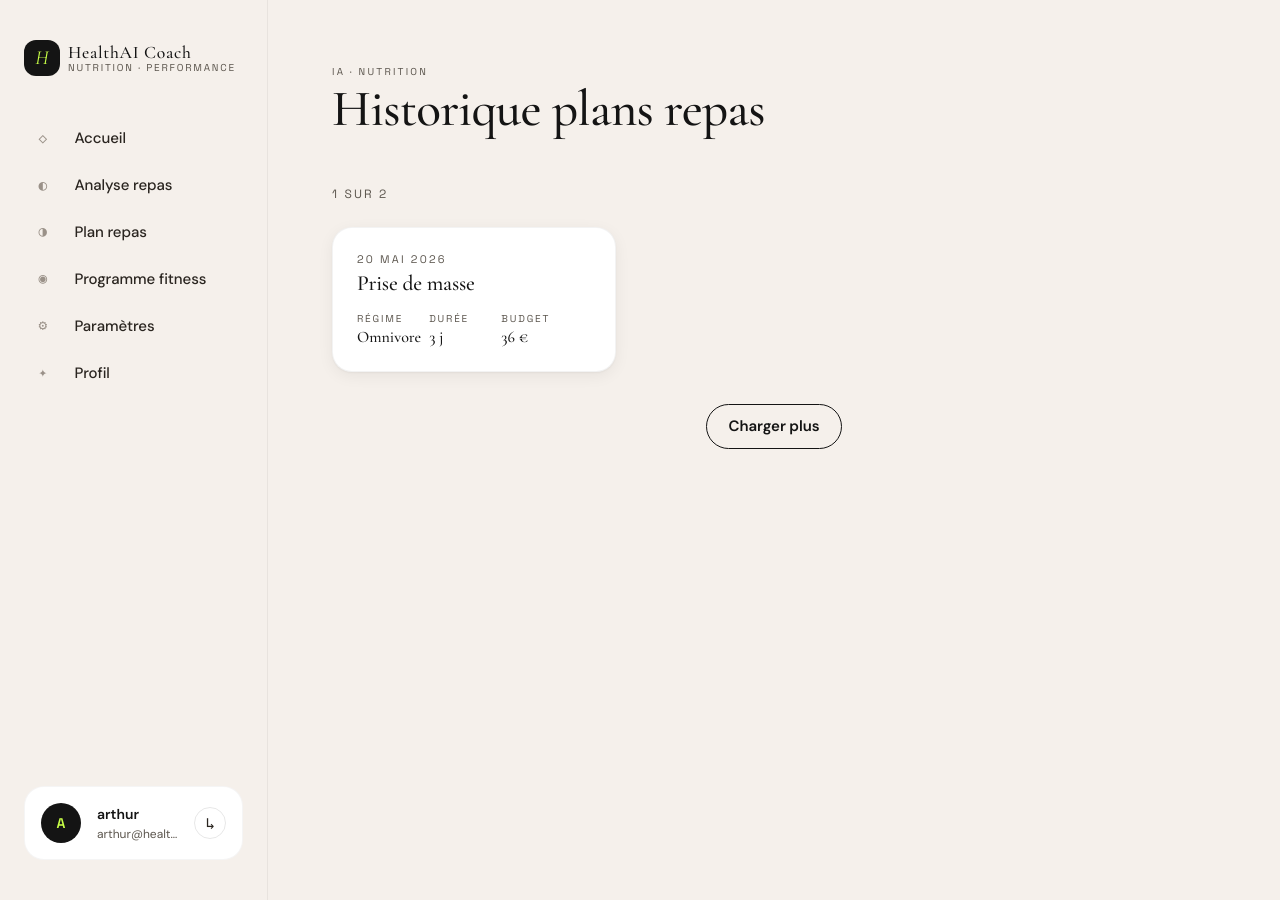
it: MealPlanHistoryView › pagination › clicking "Charger plus" fetches the next page with the right offset
This screenshot has width=1280, height=900.
Click the button with test id "meal-plan-history-more": (774,426) left=706, top=404, right=842, bottom=448
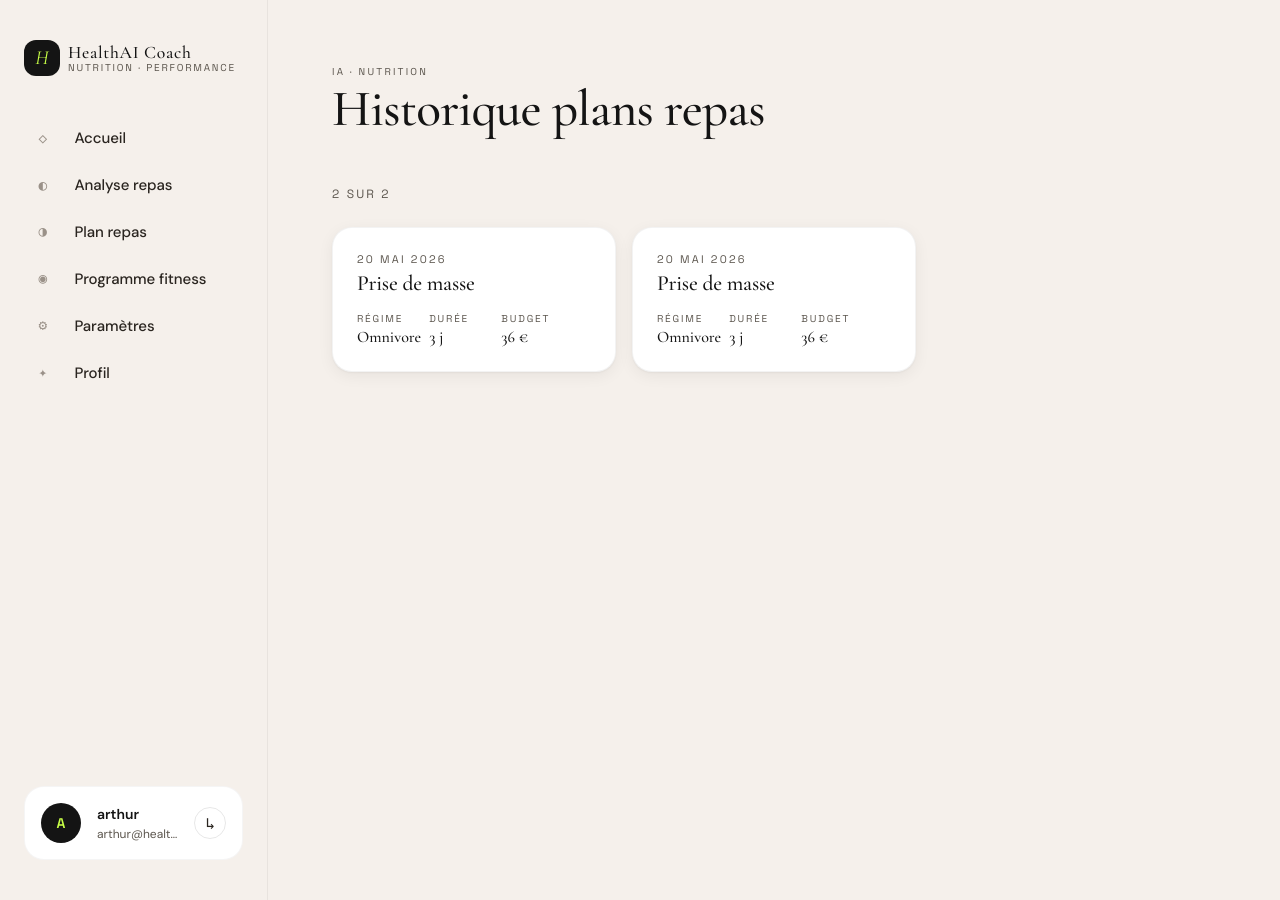
Expected: the number of buttons with test id "meal-plan-history-card" is 2, left=332, top=227, right=616, bottom=372; left=632, top=227, right=916, bottom=372
